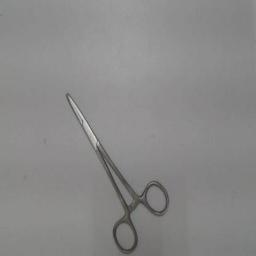Mayo Needle Holder: (60, 80, 176, 256)
